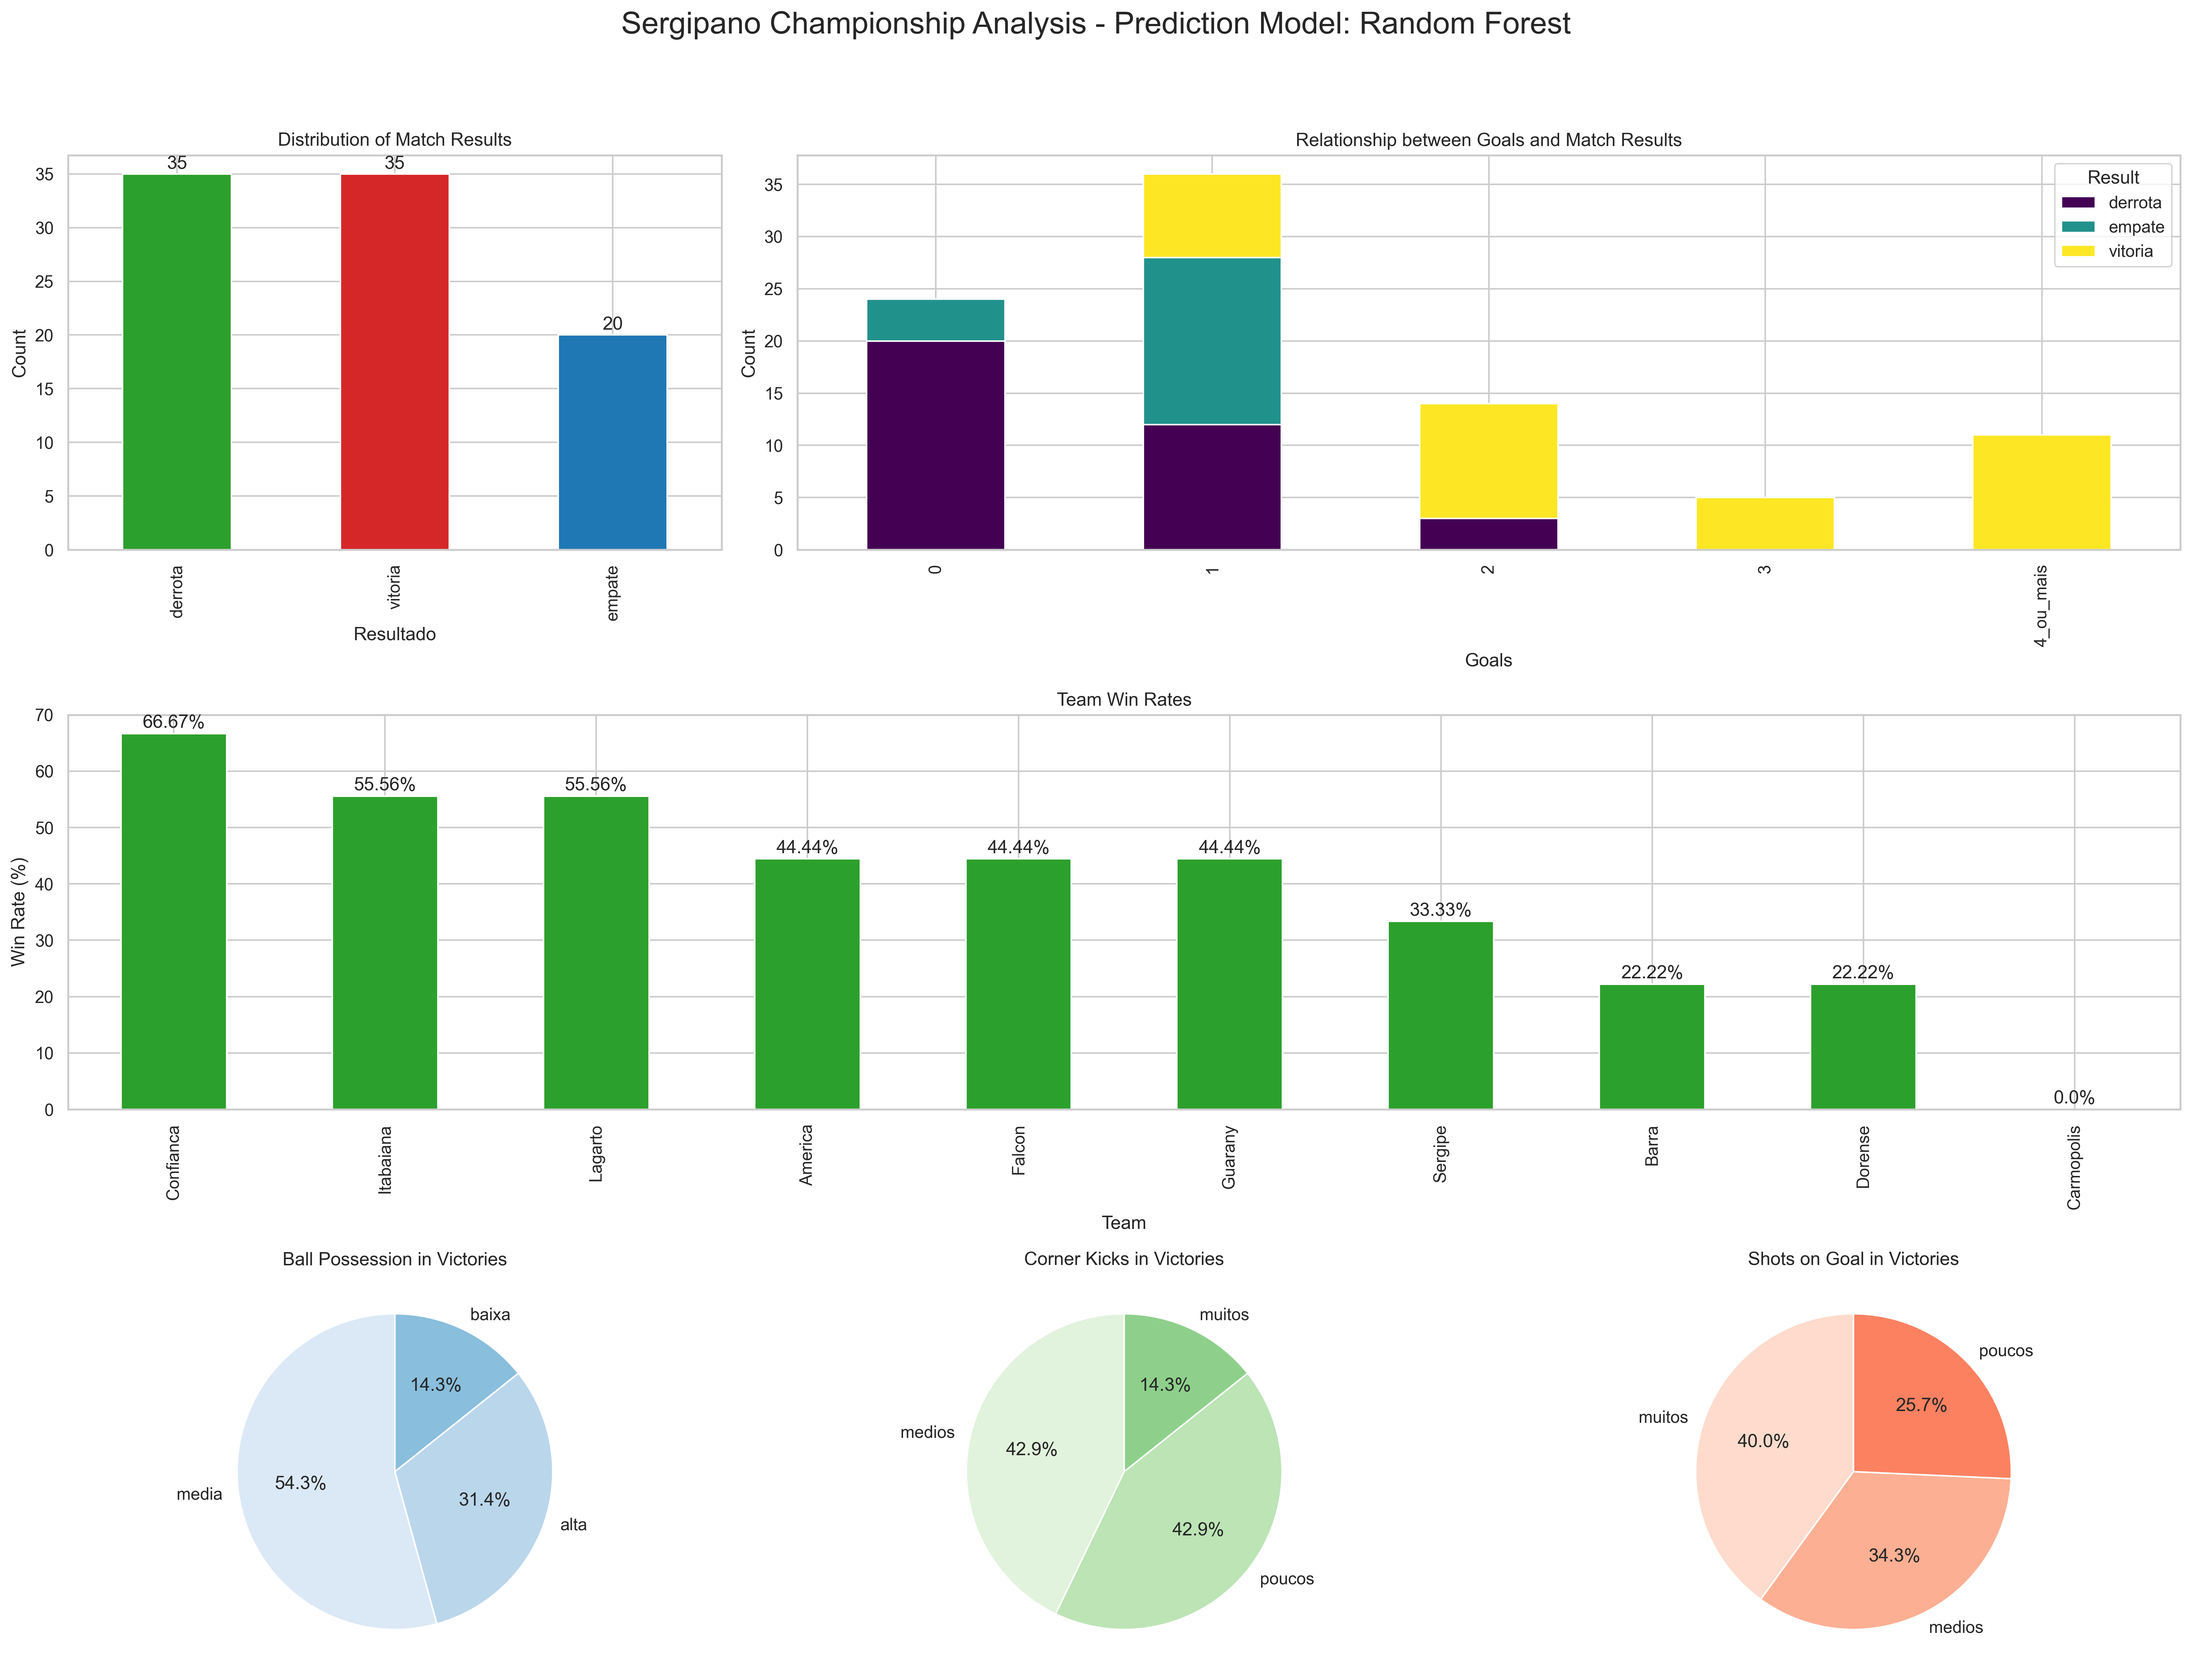

The page's visual inventory and layout, read from the dashboard file:
{"tool":"powerbi","page":{"name":"Análise Descritiva2","canvas":[1280,720],"ordinal":3},"visuals":[{"type":"pivotTable","title":"Influência nos Resultados","fields":{"Rows":["factor_statistics.Factor","factor_statistics.Value"],"Columns":["factor_statistics.Result"],"Values":["Sum(factor_statistics.Percentage_att)"]},"box":[931,17,349,667],"z":0},{"type":"pieChart","title":"Posse de Bola em Vitórias","fields":{"Category":["factor_statistics.Value"],"Y":["Sum(factor_statistics.Count)"]},"box":[607,150,294,200],"z":1000},{"type":"pieChart","title":"Escanteios em Vitórias","fields":{"Category":["factor_statistics.Value"],"Y":["Sum(factor_statistics.Count)"]},"box":[302,150,292,200],"z":2000},{"type":"pieChart","title":"Chutes a Gols em Vitórias","fields":{"Category":["factor_statistics.Value"],"Y":["Sum(factor_statistics.Count)"]},"box":[19,150,262,200],"z":3000},{"type":"columnChart","title":"Relação entre Gols e Resultados","fields":{"Category":["factor_statistics.Value"],"Series":["factor_statistics.Result"],"Y":["Sum(factor_statistics.Percentage_att)"]},"box":[19,387,882,297],"z":4000},{"type":"textbox","box":[167,35,734,47],"z":5000},{"type":"image","box":[19,24,93,69],"z":6000},{"type":"shape","box":[909,15,14,689],"z":7000}]}

Visuals, with their boxes on the page's 1280x720 design canvas (x1, y1, x2, y2). These are canvas units, not pixel positions in the 2191x1680 screenshot, which may show the page scaled, cropped or inside an application window:
"Influência nos Resultados" pivotTable: select_region(931, 17, 1280, 684)
"Posse de Bola em Vitórias" pieChart: select_region(607, 150, 901, 350)
"Escanteios em Vitórias" pieChart: select_region(302, 150, 594, 350)
"Chutes a Gols em Vitórias" pieChart: select_region(19, 150, 281, 350)
"Relação entre Gols e Resultados" columnChart: select_region(19, 387, 901, 684)
textbox: select_region(167, 35, 901, 82)
image: select_region(19, 24, 112, 93)
shape: select_region(909, 15, 923, 704)
